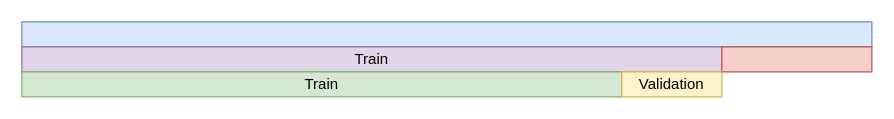
Some shapes in this 894 by 119 pixel diagram are drawn without their labels. The centre of each missing label's shape, as x and y in pixels:
"Test" belongs at pixel 796 59.
"VITON-HD project(https://github.com/shadow2496/VITON-HD)" belongs at pixel 446 34.
